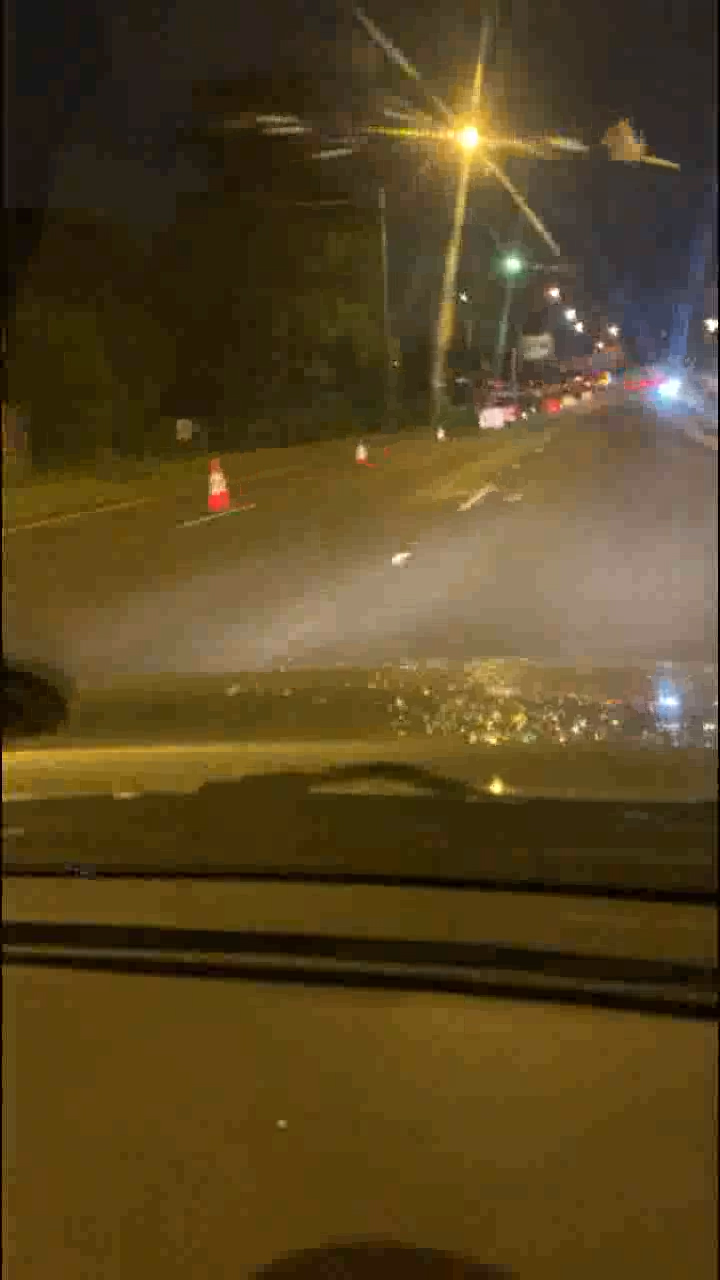road cone: (200, 457, 229, 509), (354, 442, 372, 461)
